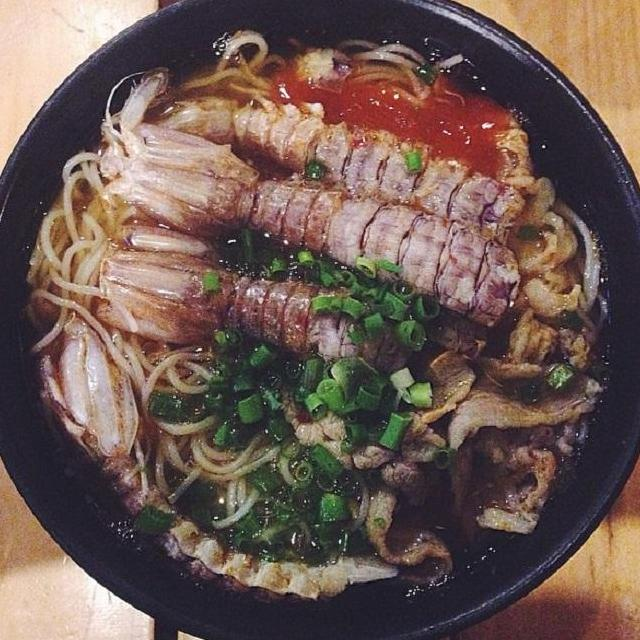bun: (105, 324, 289, 538), (16, 145, 124, 359), (325, 23, 468, 111), (166, 30, 294, 117)
tom tit: (32, 329, 405, 610), (99, 121, 527, 336), (153, 91, 530, 249), (87, 241, 430, 376)
